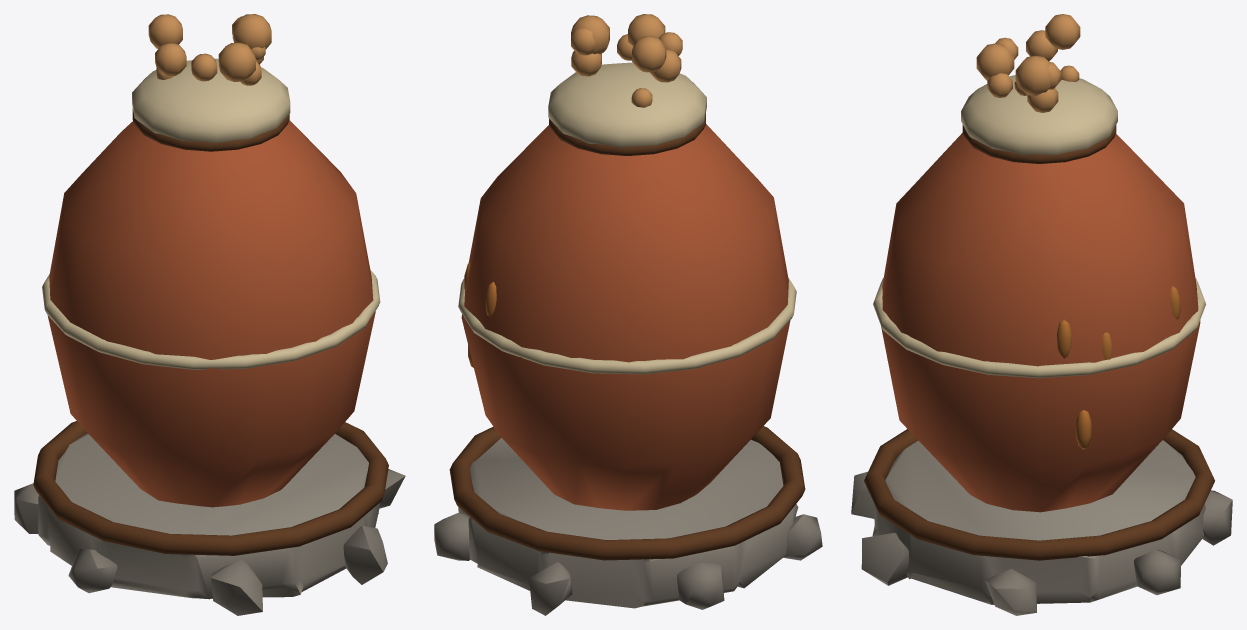
The model's file is d_ferment.fbx.
3 renders of one model, left to right at view 1: azimuth 30°, elevation 25°; view 2: azimuth 150°, elevation 25°; view 3: azimuth 270°, elevation 25°, orthographic. The views are drawn at different scales.
Visible parts, largest first — view 1: d_ferment; view 2: d_ferment; view 3: d_ferment.
Boxes of the visible parts, x1,y1,x2,y2 form: d_ferment: (14, 14, 405, 615); d_ferment: (434, 14, 822, 615); d_ferment: (851, 14, 1232, 615).
Size of the model in its own units: 2.15 by 3.23 by 2.15.
